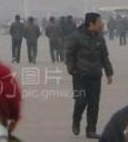person: (67, 11, 114, 140), (24, 15, 41, 63), (9, 14, 25, 64), (45, 16, 62, 63), (63, 15, 76, 64), (116, 16, 127, 46), (106, 15, 117, 40)
